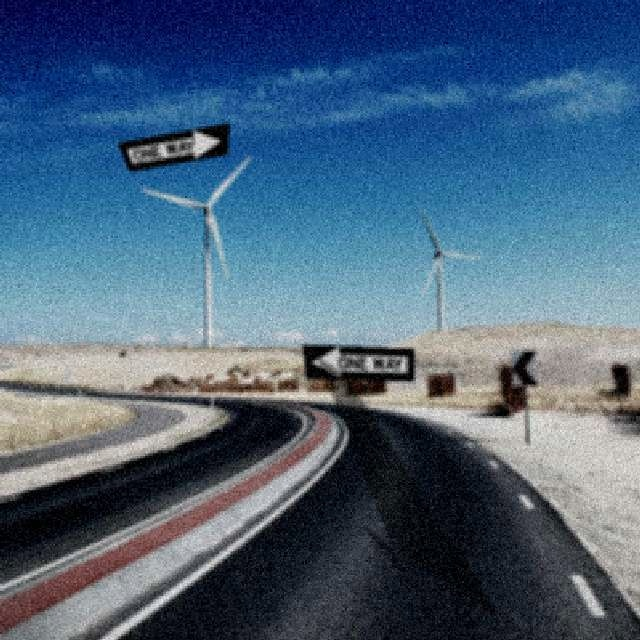ONE_WAY_ left: (301, 343, 413, 380)
ONE_WAY_ right: (116, 121, 228, 170)
